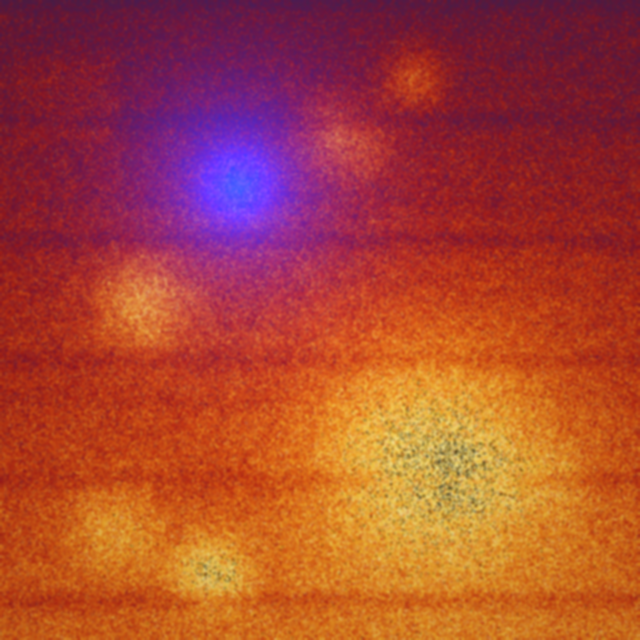nozzle: (191, 150, 279, 230)
